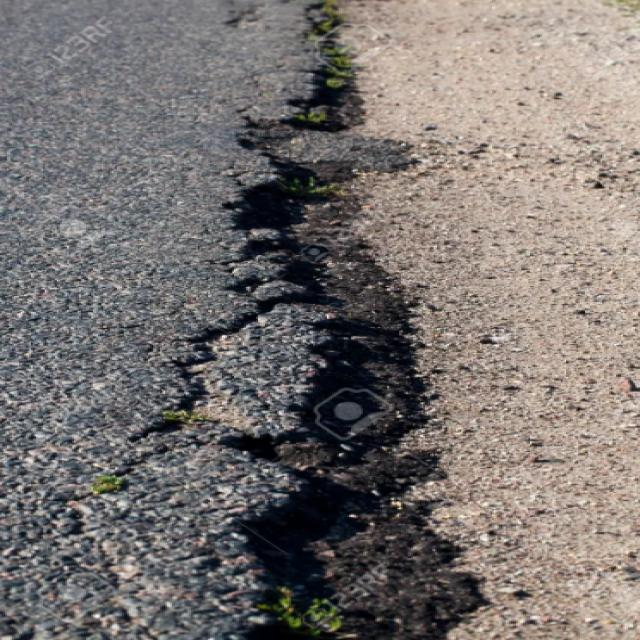Pothole: (126, 73, 640, 640)
